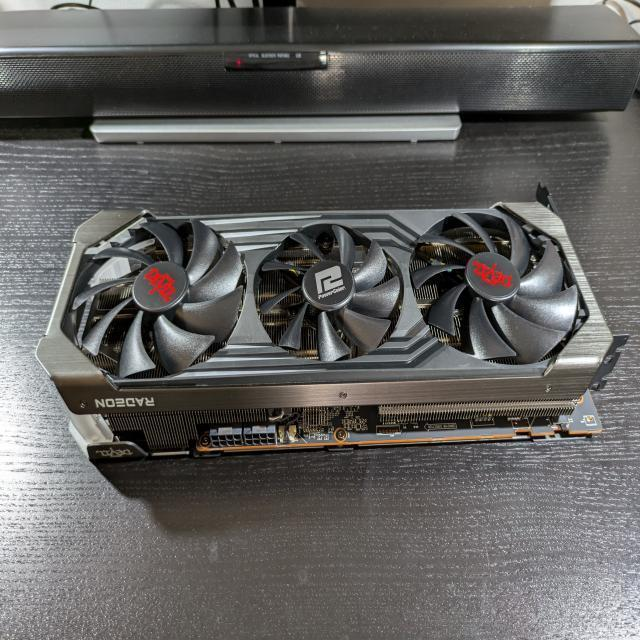GPU: (27, 184, 630, 466)
